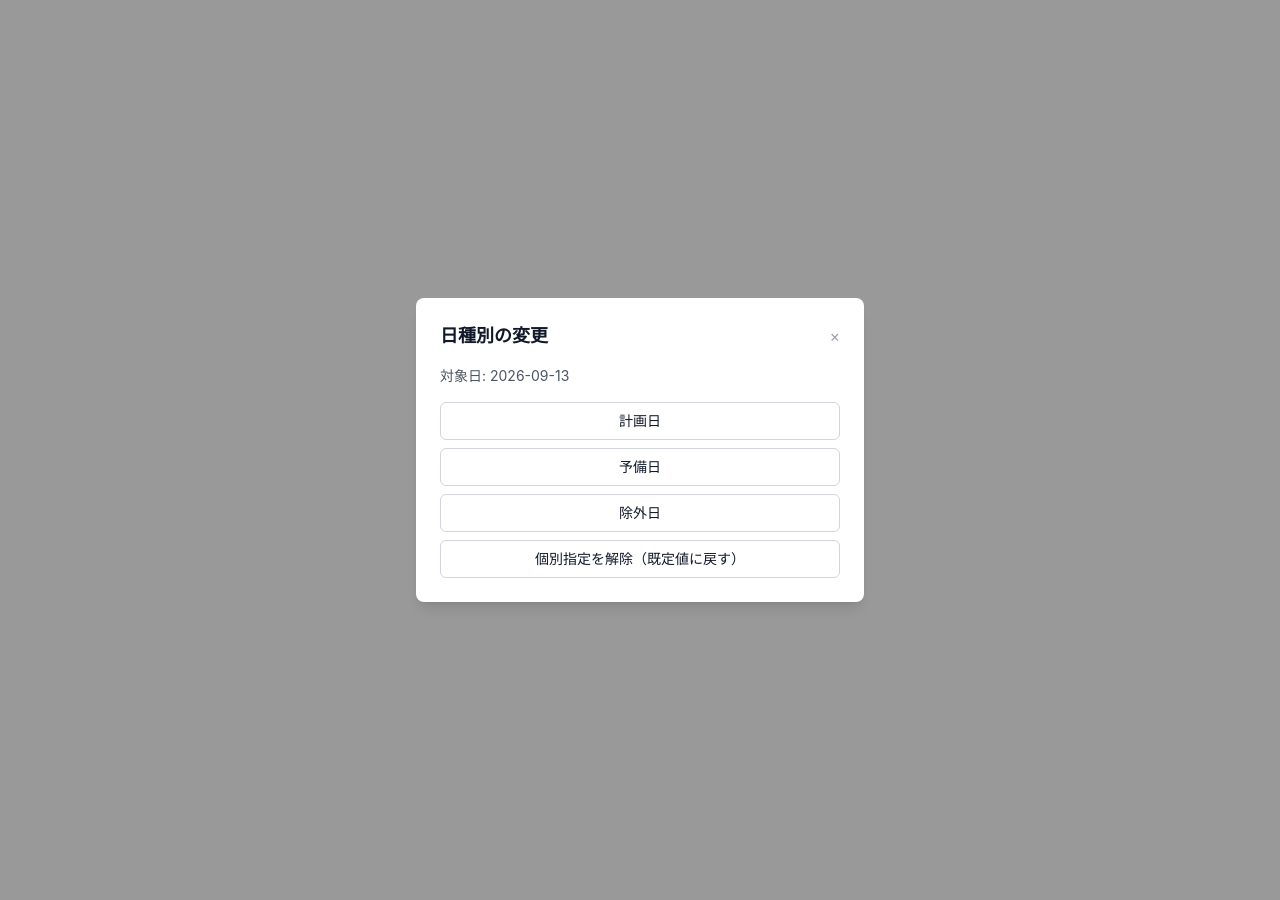
Test: DayTypeEditModal › reports a failure instead of closing
Click the button "計画日": (640, 421) [440,402,840,440]
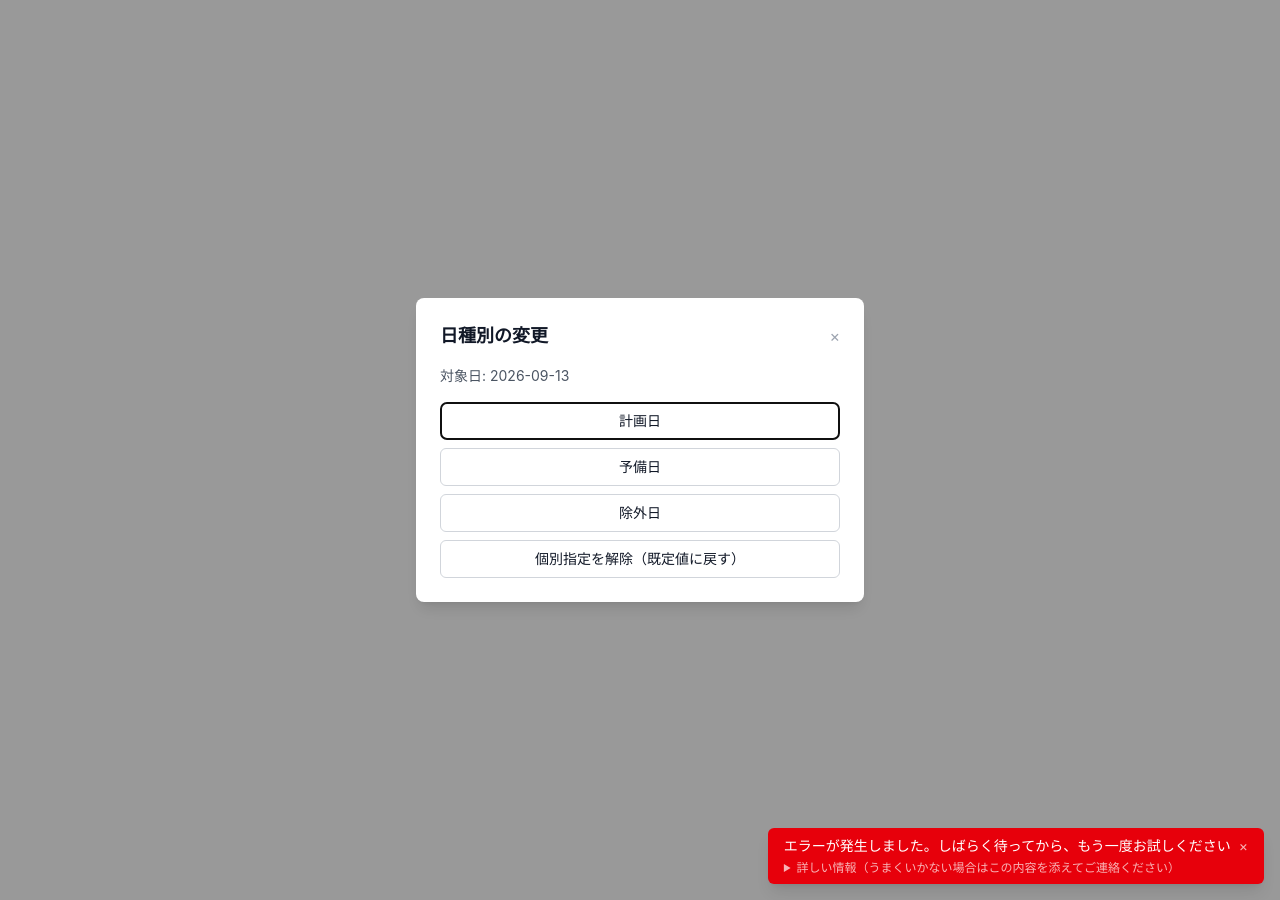
Check: the text "エラーが発生しました。しばらく待ってから、もう一度お試しください" is shown, box [784,836,1231,856]
